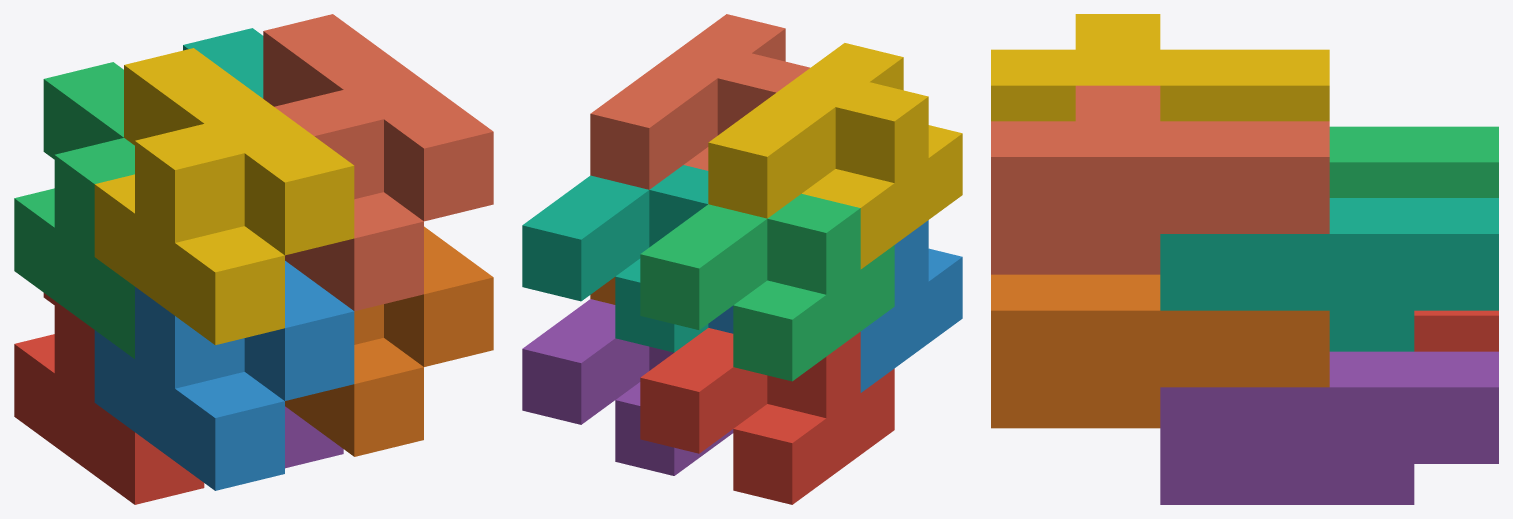
Rendered from tiling.obj.
3 views of the same model, side by side, from view 1: azimuth 30°, elevation 25°; view 2: azimuth 150°, elevation 25°; view 3: azimuth 270°, elevation 25° (orthographic). The views are drawn at different scales.
Visible parts, largest first — view 1: copy_1_domain_4, copy_1_domain_8, copy_1_domain_2, copy_1_domain_3, copy_1_domain_6, copy_1_domain_1, copy_1_domain_7, copy_1_domain_5; view 2: copy_1_domain_4, copy_1_domain_3, copy_1_domain_1, copy_1_domain_8, copy_1_domain_7, copy_1_domain_5, copy_1_domain_2; view 3: copy_1_domain_8, copy_1_domain_5, copy_1_domain_6, copy_1_domain_7, copy_1_domain_4, copy_1_domain_3, copy_1_domain_1.
Part boxes in pixels (bbox=[...]): copy_1_domain_4: bbox=[94, 48, 354, 345]; copy_1_domain_8: bbox=[263, 14, 493, 311]; copy_1_domain_2: bbox=[94, 261, 354, 490]; copy_1_domain_3: bbox=[14, 62, 134, 358]; copy_1_domain_6: bbox=[285, 226, 493, 456]; copy_1_domain_1: bbox=[14, 293, 204, 504]; copy_1_domain_7: bbox=[183, 28, 263, 98]; copy_1_domain_5: bbox=[285, 406, 343, 468]; copy_1_domain_4: bbox=[708, 43, 962, 269]; copy_1_domain_3: bbox=[640, 193, 894, 381]; copy_1_domain_1: bbox=[640, 328, 894, 504]; copy_1_domain_8: bbox=[590, 14, 809, 189]; copy_1_domain_7: bbox=[522, 165, 708, 352]; copy_1_domain_5: bbox=[522, 299, 733, 475]; copy_1_domain_2: bbox=[708, 220, 962, 392]; copy_1_domain_8: bbox=[991, 85, 1329, 274]; copy_1_domain_5: bbox=[1160, 351, 1498, 504]; copy_1_domain_6: bbox=[991, 274, 1329, 428]; copy_1_domain_7: bbox=[1160, 198, 1498, 351]; copy_1_domain_4: bbox=[991, 14, 1329, 121]; copy_1_domain_3: bbox=[1329, 126, 1498, 197]; copy_1_domain_1: bbox=[1414, 310, 1498, 351].
Size of the model in its own units: 4 by 5 by 6.
